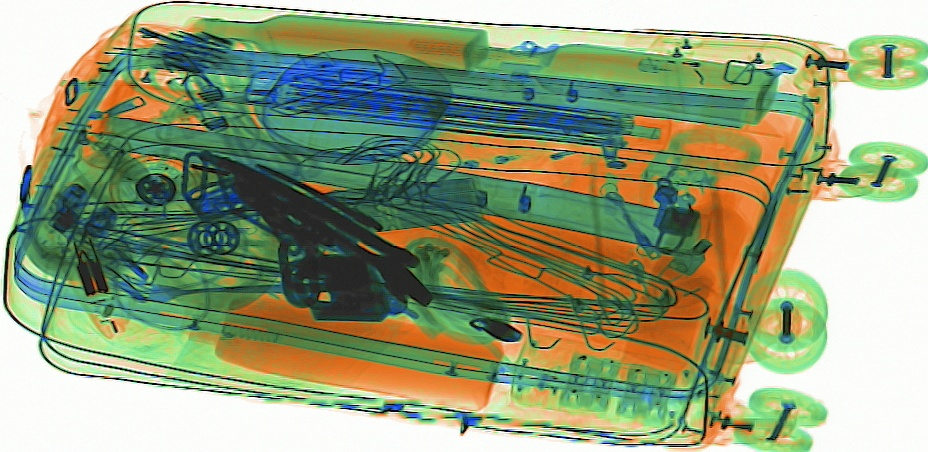powerbank: (299, 175, 486, 233)
